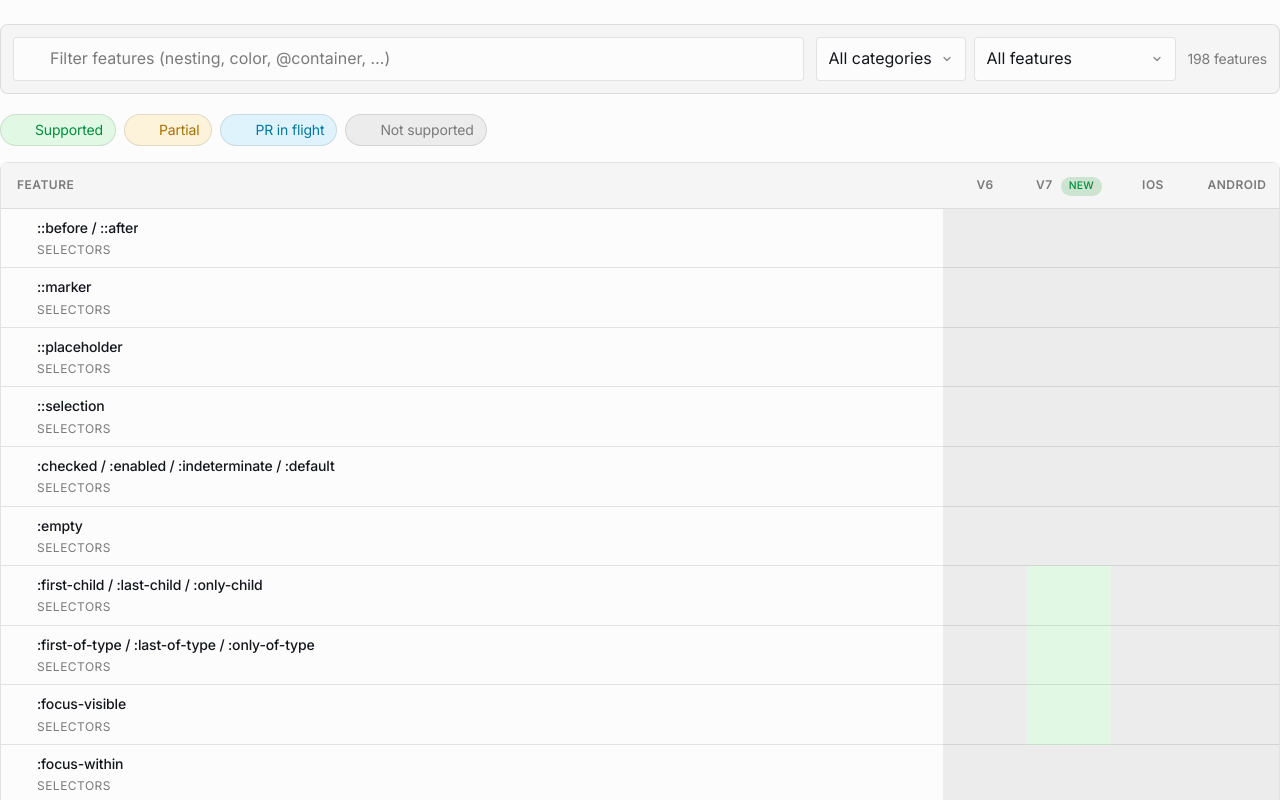
it: <CompatibilityMatrix> › shows a helpful empty state when nothing matches
The width and height of the screenshot is (1280, 800).
Type "zzzzznothingmatchesthis" into the search field with placeholder "Filter features (nesting, color, @container, …)" at (420, 59), box top-left (50, 38), bottom-right (790, 80)
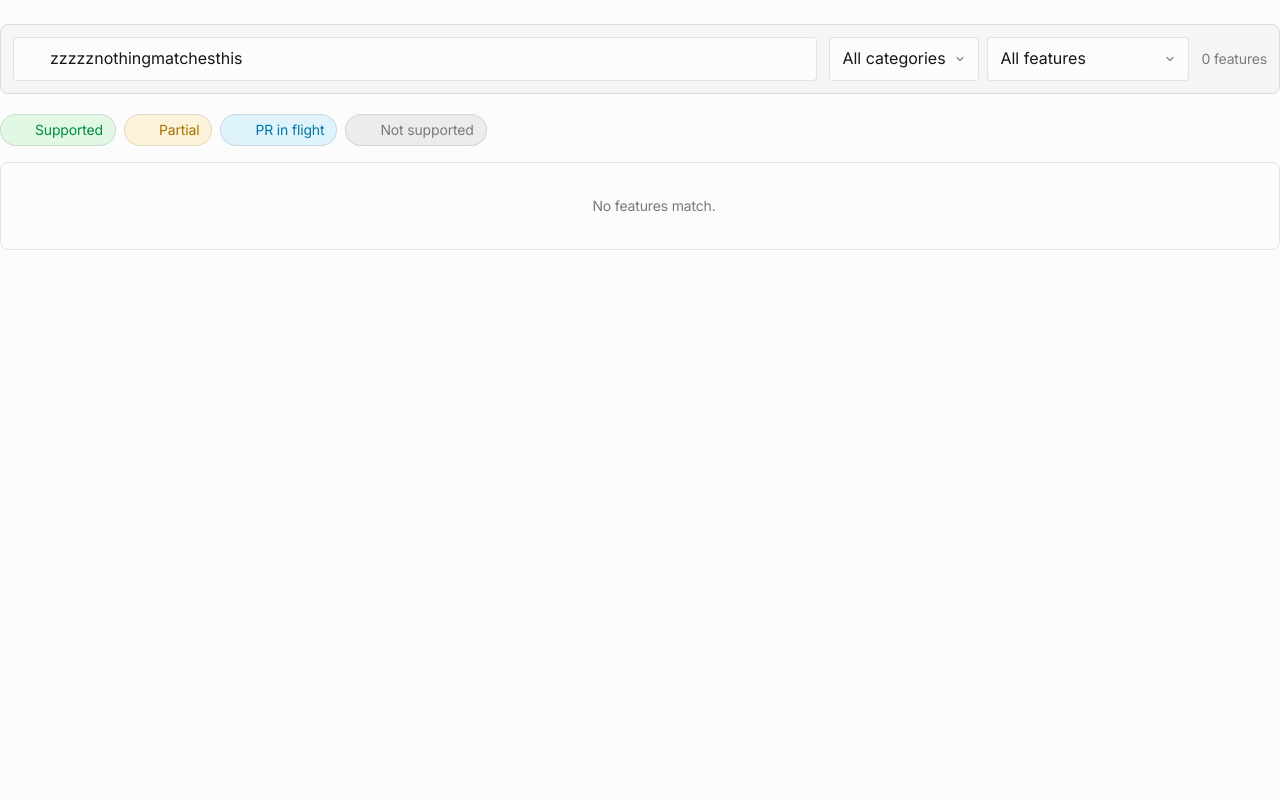
Result: the text "No features match." is shown at top-left (0, 162), bottom-right (1279, 250)
